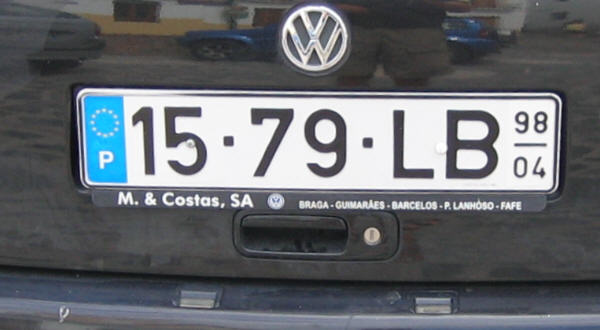license_plate: (77, 88, 563, 190)
